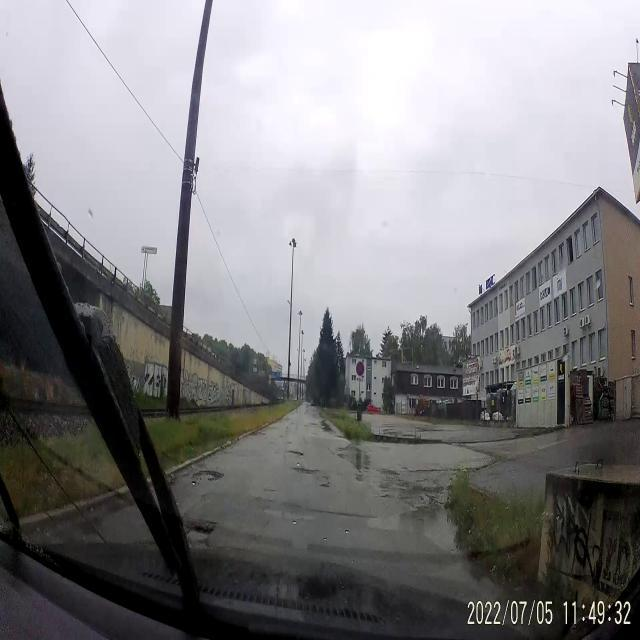Pothole: (186, 516, 218, 550), (190, 468, 224, 488), (290, 466, 321, 474), (285, 448, 304, 457), (320, 482, 330, 490), (320, 475, 330, 480)
